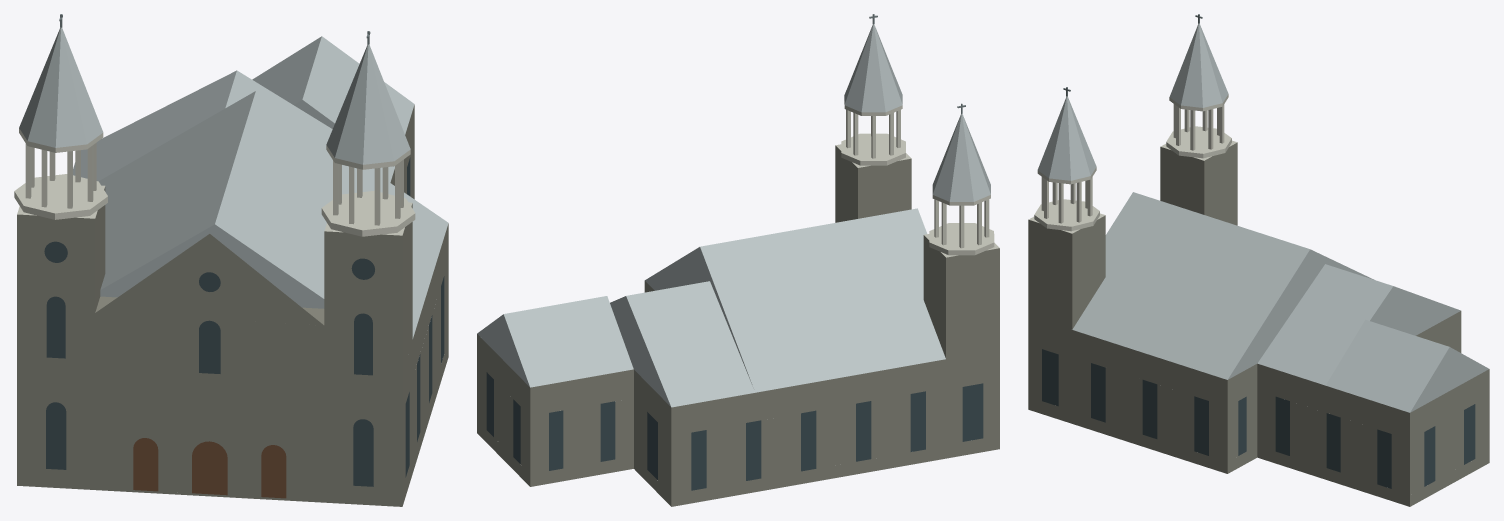
Rendered from eglise-purification-repentigny-near.glb.
3 views of the same model, side by side, from view 1: azimuth 30°, elevation 25°; view 2: azimuth 150°, elevation 25°; view 3: azimuth 270°, elevation 25° (orthographic). The views are drawn at different scales.
Visible parts, largest first — view 1: eglise-purification-repentigny-0-stone, eglise-purification-repentigny-0-roof, eglise-purification-repentigny-0-glass, eglise-purification-repentigny-0-cornice, eglise-purification-repentigny-0-trim, eglise-purification-repentigny-0-door; view 2: eglise-purification-repentigny-0-roof, eglise-purification-repentigny-0-stone, eglise-purification-repentigny-0-glass, eglise-purification-repentigny-0-cornice, eglise-purification-repentigny-0-trim; view 3: eglise-purification-repentigny-0-roof, eglise-purification-repentigny-0-stone, eglise-purification-repentigny-0-glass, eglise-purification-repentigny-0-cornice, eglise-purification-repentigny-0-trim.
Boxes of the visible parts, bbox=[...] form: eglise-purification-repentigny-0-stone: bbox=[17, 105, 448, 506]; eglise-purification-repentigny-0-roof: bbox=[19, 27, 448, 338]; eglise-purification-repentigny-0-glass: bbox=[44, 157, 444, 486]; eglise-purification-repentigny-0-cornice: bbox=[14, 128, 415, 236]; eglise-purification-repentigny-0-trim: bbox=[17, 142, 412, 235]; eglise-purification-repentigny-0-door: bbox=[133, 438, 286, 498]; eglise-purification-repentigny-0-roof: bbox=[477, 24, 990, 407]; eglise-purification-repentigny-0-stone: bbox=[477, 145, 999, 506]; eglise-purification-repentigny-0-glass: bbox=[486, 372, 983, 490]; eglise-purification-repentigny-0-cornice: bbox=[841, 101, 994, 255]; eglise-purification-repentigny-0-trim: bbox=[836, 109, 999, 257]; eglise-purification-repentigny-0-roof: bbox=[1037, 23, 1488, 412]; eglise-purification-repentigny-0-stone: bbox=[1028, 142, 1489, 506]; eglise-purification-repentigny-0-glass: bbox=[1042, 349, 1475, 488]; eglise-purification-repentigny-0-cornice: bbox=[1034, 94, 1231, 231]; eglise-purification-repentigny-0-trim: bbox=[1029, 104, 1237, 233].
Size of the model in its own units: 40.43 by 32 by 41.76.
